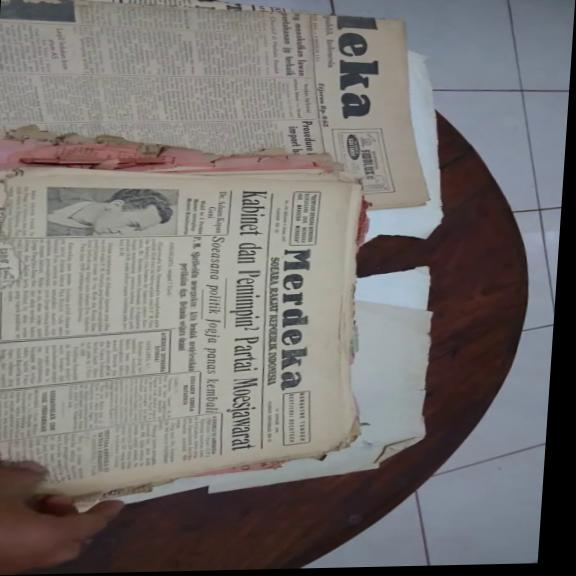Kertas: (0, 0, 450, 220)
